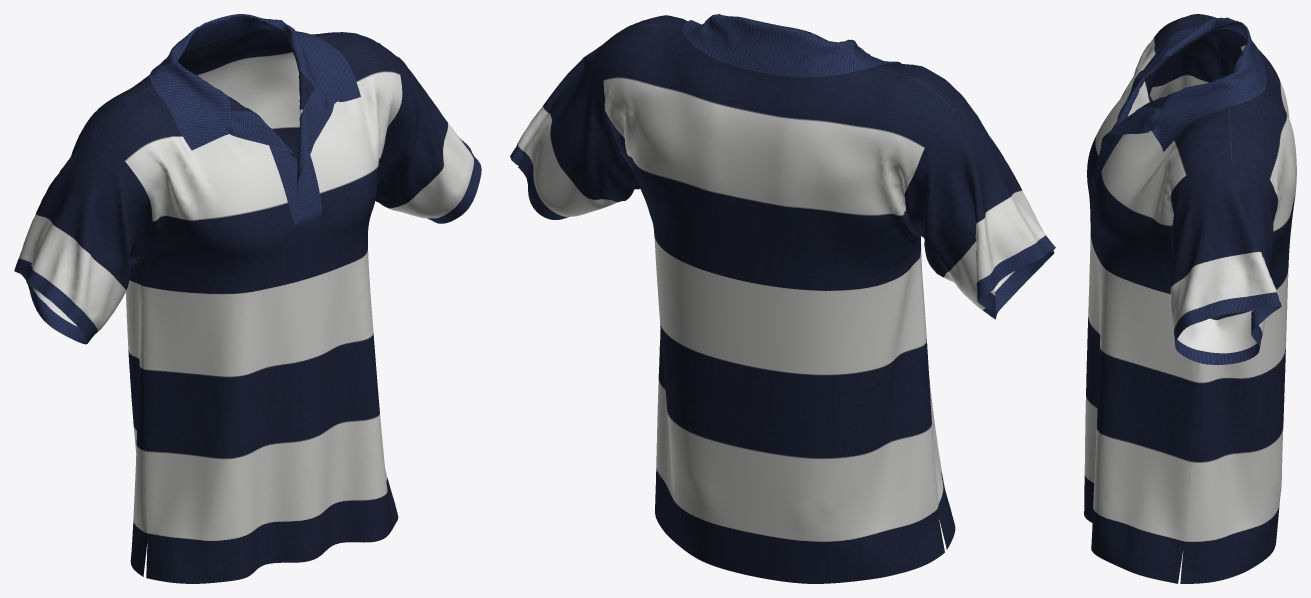
Rendered from tshirt_2.gltf.
The picture shows the model from 3 angles, left to right: view 1: azimuth 30°, elevation 25°; view 2: azimuth 150°, elevation 25°; view 3: azimuth 270°, elevation 25°; orthographic projection. The views are drawn at different scales.
Parts seen in each view (by area): view 1: AM_102_035_003; view 2: AM_102_035_003; view 3: AM_102_035_003.
Boxes of the visible parts, x1,y1,x2,y2 form: AM_102_035_003: (14, 14, 481, 583); AM_102_035_003: (510, 14, 1055, 583); AM_102_035_003: (1084, 14, 1296, 583).
Bounding box in the file's own units: 71.86 × 75.6 × 29.33.
Materials: 1 (1 with a texture image).
